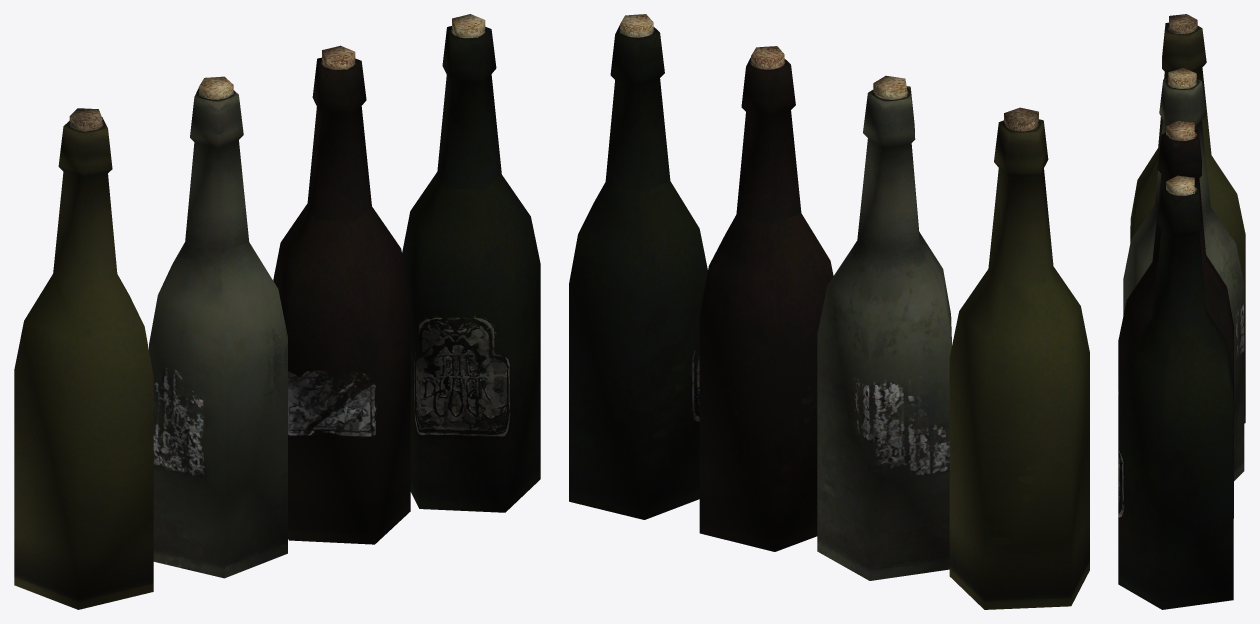
The model's file is wine_row_amfp.dae.
3 renders of one model, left to right at view 1: azimuth 30°, elevation 25°; view 2: azimuth 150°, elevation 25°; view 3: azimuth 270°, elevation 25°, orthographic. The views are drawn at different scales.
Visible parts, largest first — view 1: polySurface25; view 2: polySurface25; view 3: polySurface25.
Part boxes in pixels (box(x1,y1,x2,y2)): polySurface25: box(14, 14, 540, 609); polySurface25: box(569, 14, 1089, 609); polySurface25: box(1118, 14, 1245, 609).
Bounding box in the file's own units: 0.4 × 0.3527 × 0.1013.
